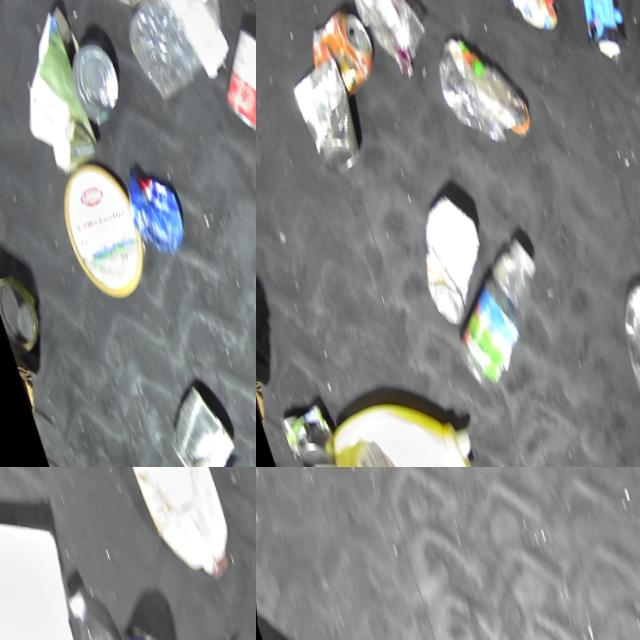can: (394, 186, 498, 336), (281, 55, 367, 185), (295, 2, 382, 107), (110, 160, 189, 270), (144, 376, 238, 467), (55, 34, 128, 134), (201, 21, 256, 148), (0, 264, 43, 359), (275, 399, 332, 467)
milk_jug: (102, 467, 239, 609), (279, 441, 407, 467)
non_white_jug: (310, 377, 482, 467)
plastic_bottle: (419, 232, 564, 407), (421, 21, 535, 165), (105, 0, 253, 110), (587, 271, 640, 467), (50, 580, 139, 640)
